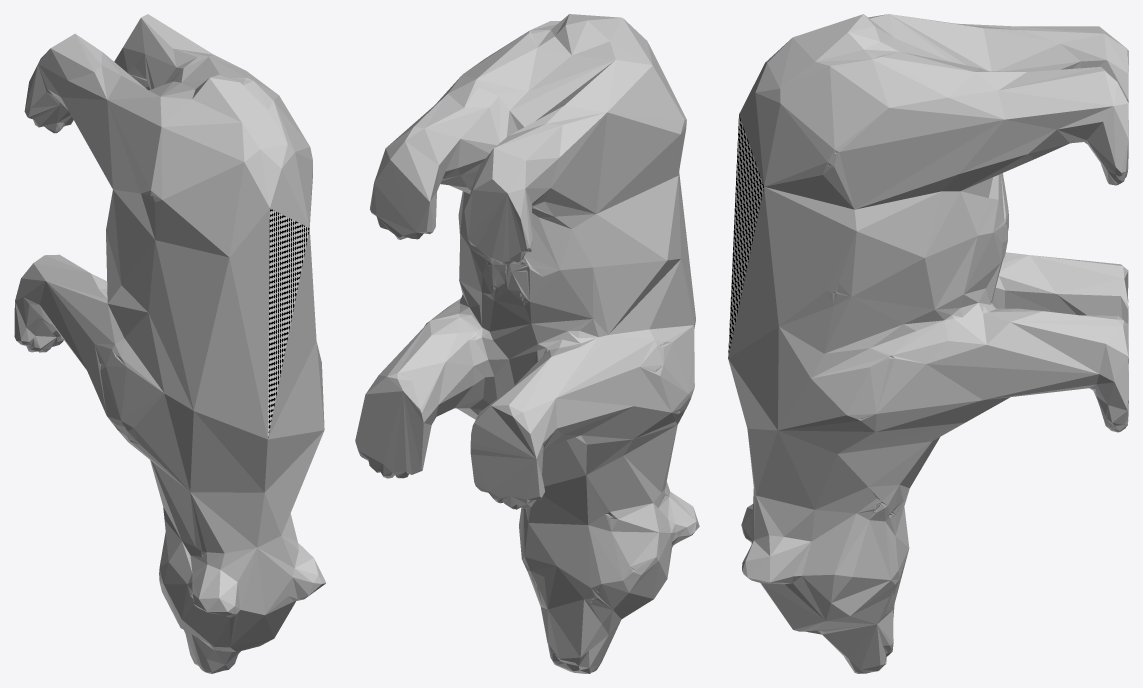
File: bear.obj
3 renders of one model, left to right at view 1: azimuth 30°, elevation 25°; view 2: azimuth 150°, elevation 25°; view 3: azimuth 270°, elevation 25°, orthographic. The views are drawn at different scales.
Bounding box in the file's own units: 24.03 × 69.43 × 38.7.
